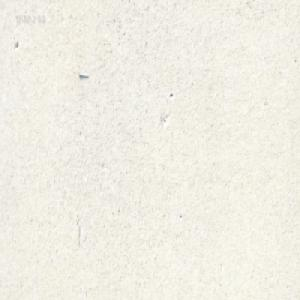Nail: (77, 71, 89, 77)
